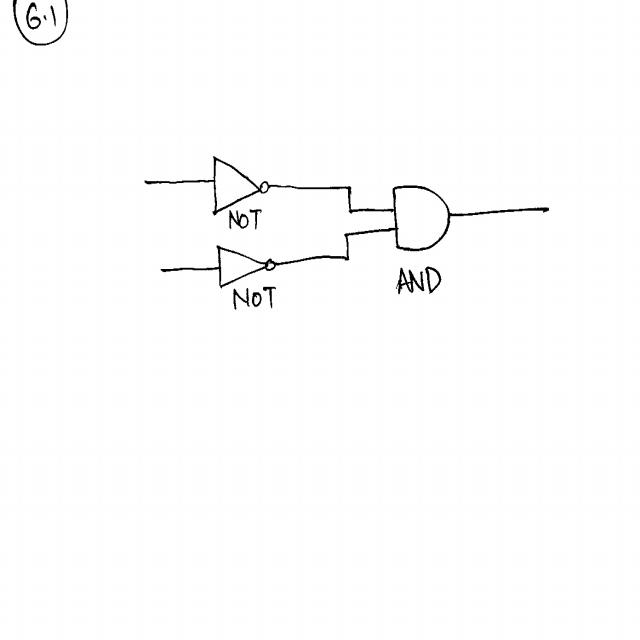junction: (343, 182, 354, 194), (343, 252, 352, 263), (342, 230, 350, 240), (346, 206, 354, 216)
terminal: (537, 203, 552, 216), (140, 178, 154, 188), (157, 265, 169, 276)
text: (394, 264, 442, 296), (231, 284, 278, 313), (227, 205, 263, 233)
